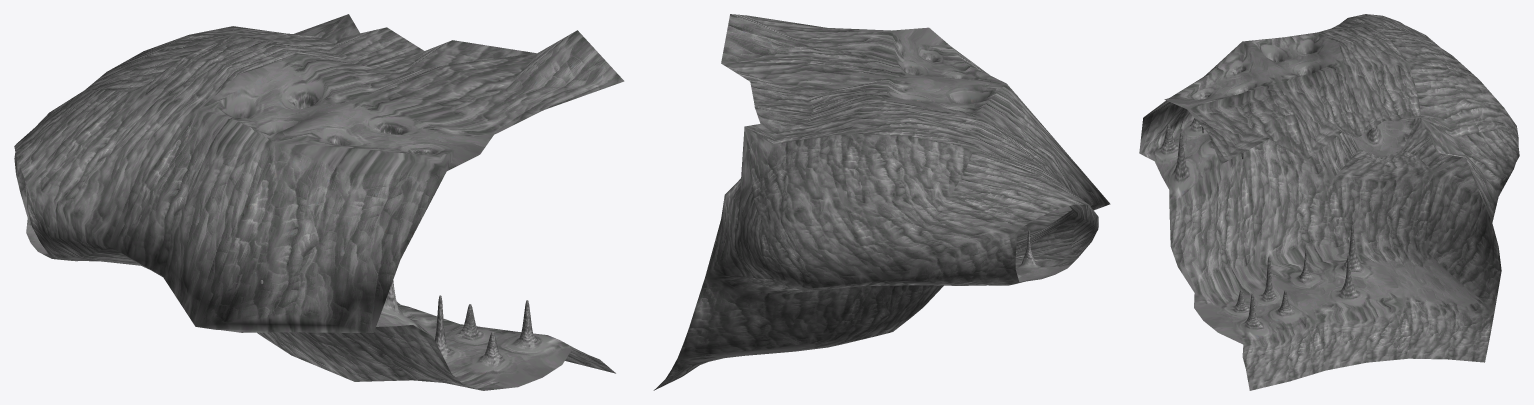
File: SWORDLIGHT20_PS-AREA05_03.fbx
The picture shows the model from 3 angles, left to right: view 1: azimuth 30°, elevation 25°; view 2: azimuth 150°, elevation 25°; view 3: azimuth 270°, elevation 25°; orthographic projection. The views are drawn at different scales.
Parts seen in each view (by area): view 1: SWORDLIGHT20_PS-AREA05_03; view 2: SWORDLIGHT20_PS-AREA05_03; view 3: SWORDLIGHT20_PS-AREA05_03.
Part boxes in pixels (bbox=[...]): SWORDLIGHT20_PS-AREA05_03: bbox=[14, 14, 624, 390]; SWORDLIGHT20_PS-AREA05_03: bbox=[653, 14, 1110, 390]; SWORDLIGHT20_PS-AREA05_03: bbox=[1139, 14, 1519, 390].
Bounding box in the file's own units: 269196 × 165802 × 234754.
Materials: 6 (6 with a texture image).
